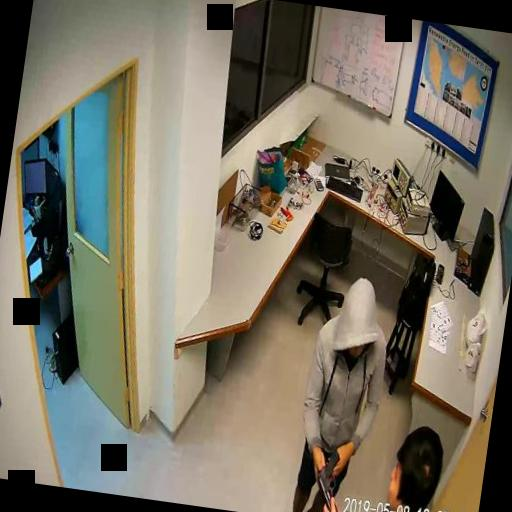Handgun: (307, 442, 348, 512)
